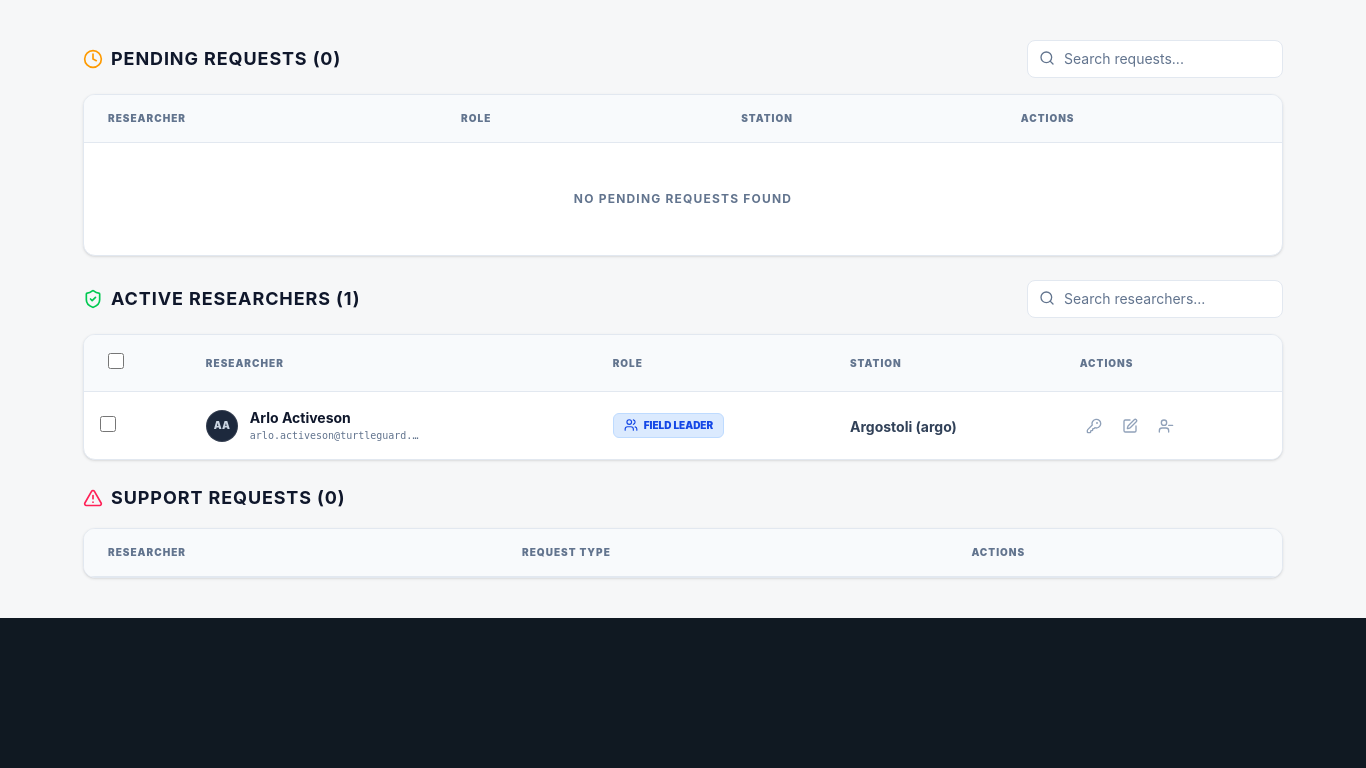
Test: UserManagement checkbox tap-target wrapper › wraps each checkbox in a <label> that forwards clicks to it
This screenshot has width=1366, height=768.
What coordinates should you click on to do the following:
click the 1st label
I would click on:
 (116, 361)
Its box is [108,353,124,369].
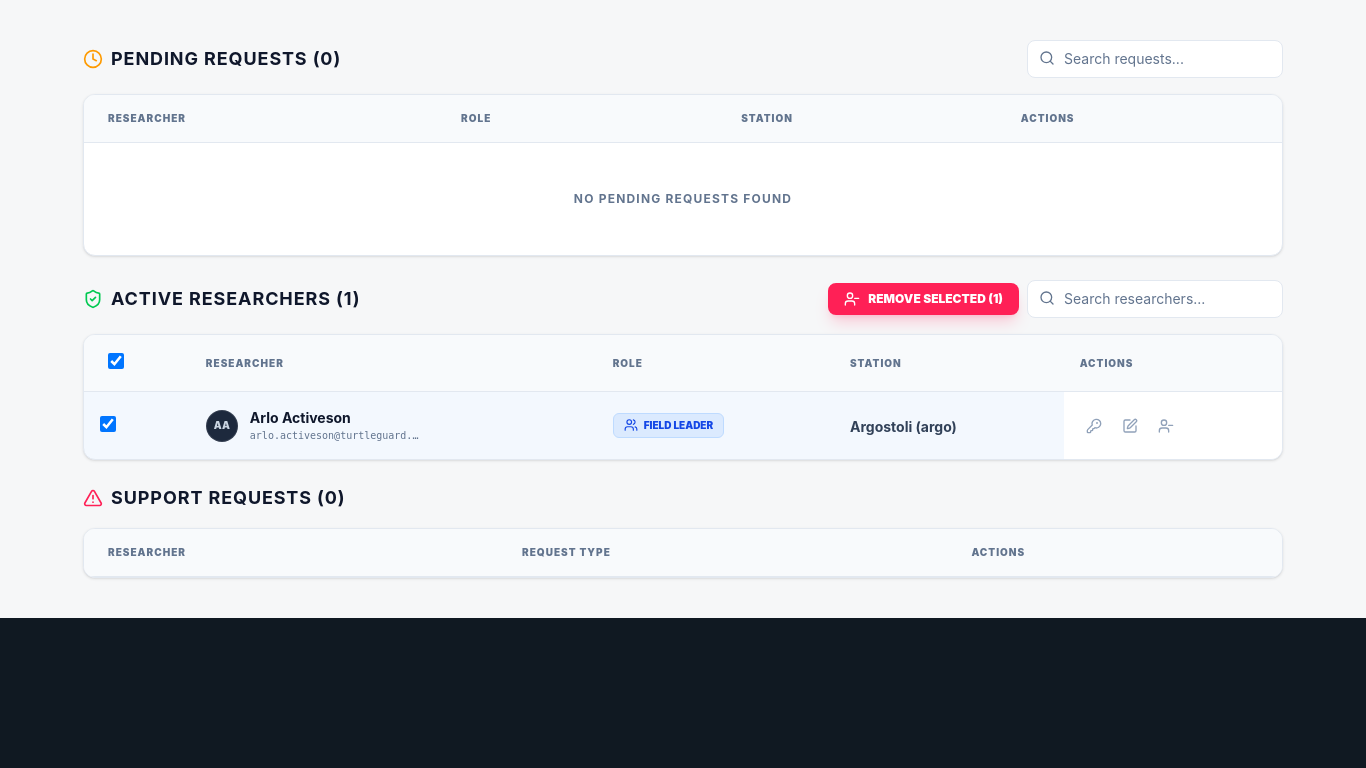
Now the checkbox named "Select all researchers on this page" is checked, box [108,353,124,369]
